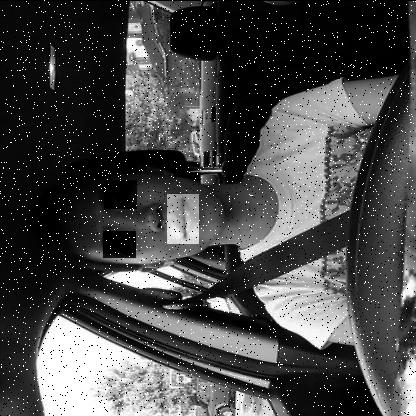seatbelt: (23, 147, 349, 289)
